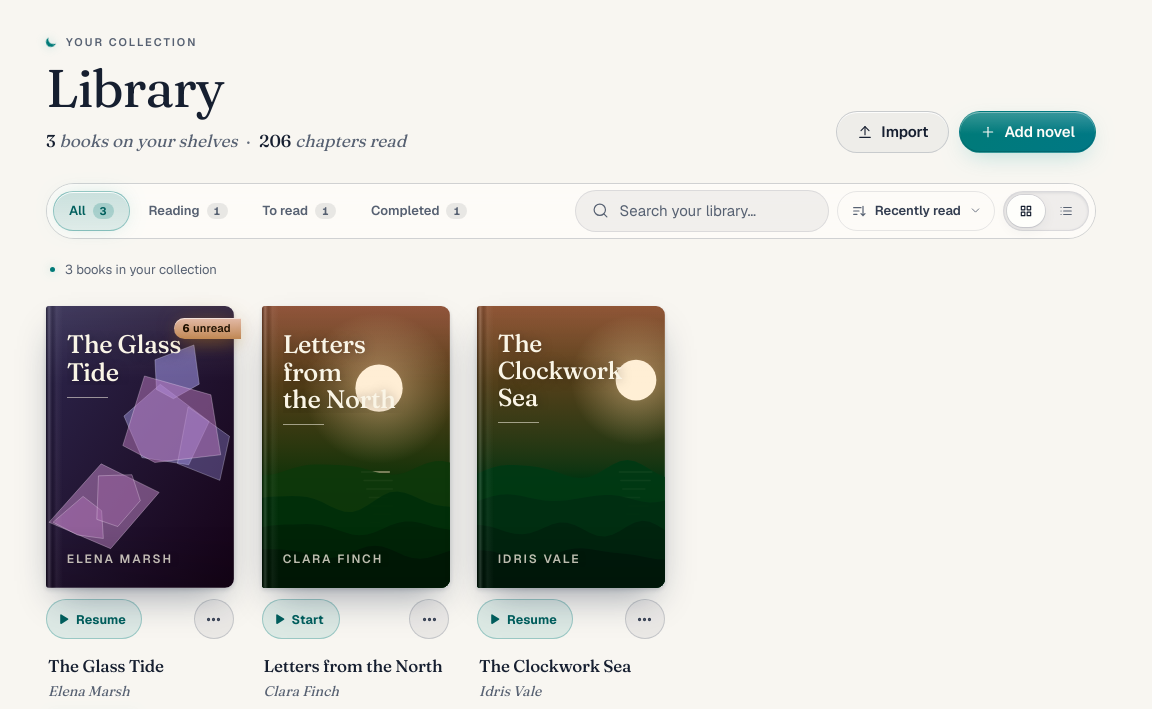
Scenario: Library › switches to the list view and remembers it
Click the button named "List" at (1066, 211), box [1047,195,1085,227]
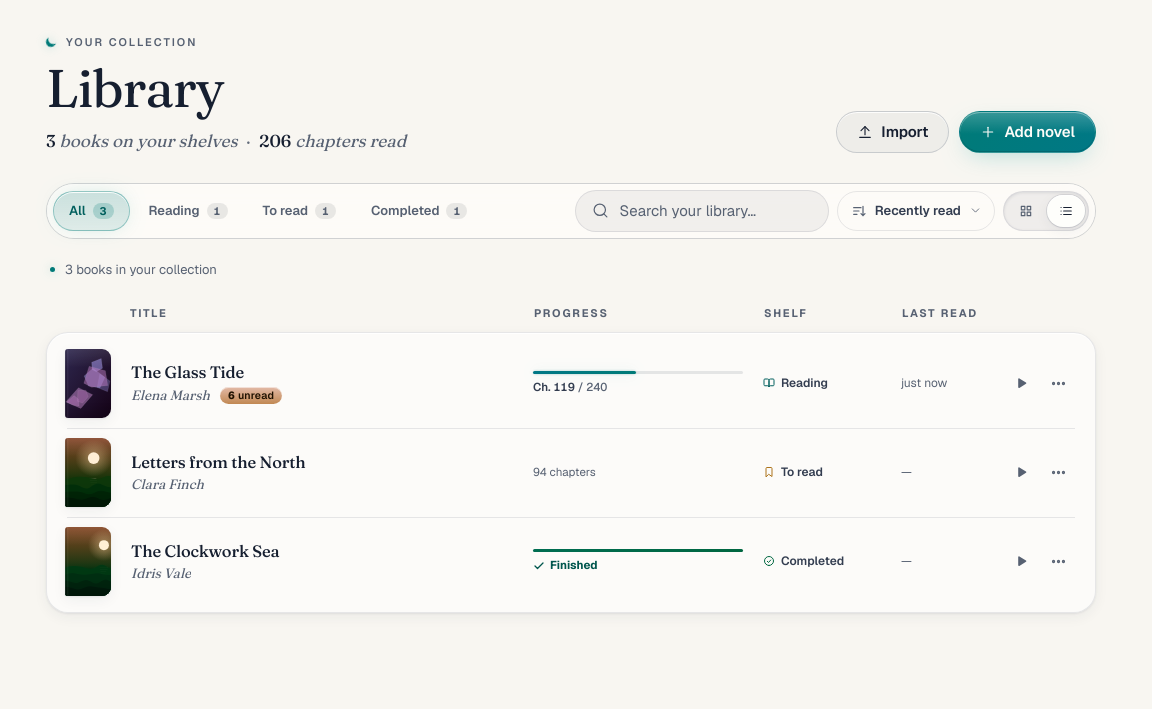
Expected: the number of list items with class "lib-row" is 3, [53,339,1089,428]; [53,428,1089,517]; [53,517,1089,606]
